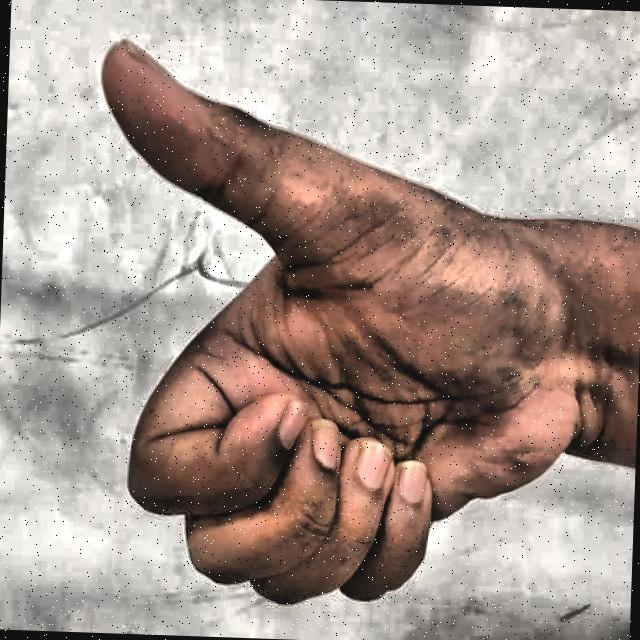Do: (52, 25, 588, 634)
